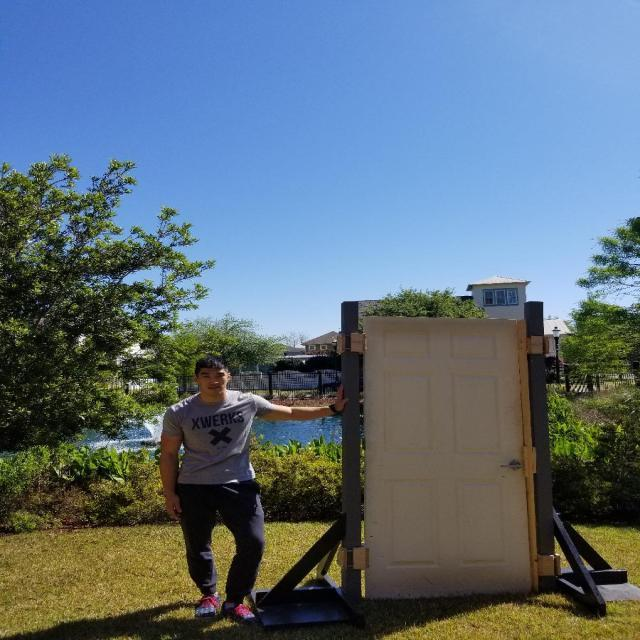door: (360, 312, 534, 604), (496, 458, 524, 474)
